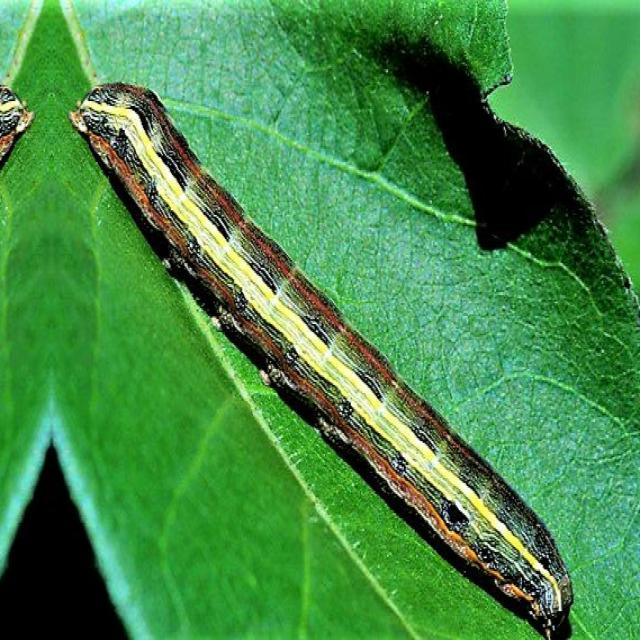Armyworm: (66, 45, 588, 640), (1, 35, 36, 186)
